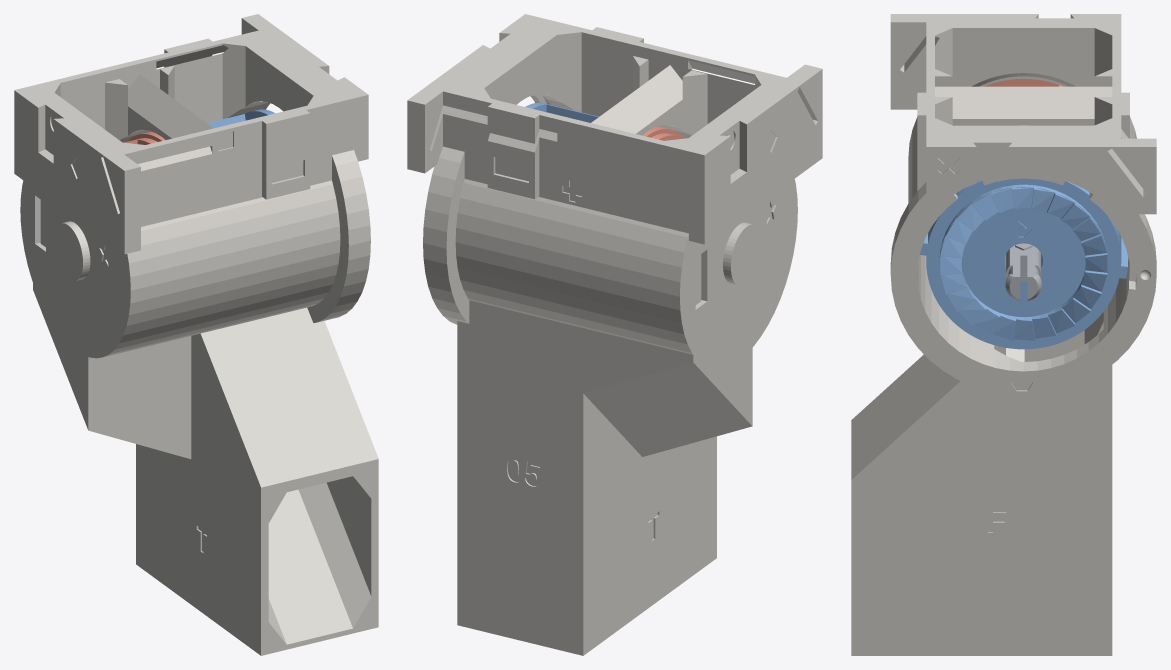
File: a5_cartridge.glb
3 views of the same model, side by side, from view 1: azimuth 30°, elevation 25°; view 2: azimuth 150°, elevation 25°; view 3: azimuth 270°, elevation 25° (orthographic). The views are drawn at different scales.
Visible parts, largest first — view 1: 05_wheel_housing; view 2: 05_wheel_housing; view 3: 05_wheel_housing, 06b_food_wheel, 17_shaft, 06_treat_wheel.
Boxes of the visible parts, bbox=[...] form: 05_wheel_housing: bbox=[14, 14, 378, 655]; 05_wheel_housing: bbox=[407, 14, 822, 655]; 05_wheel_housing: bbox=[851, 14, 1156, 655]; 06b_food_wheel: bbox=[920, 125, 1127, 349]; 17_shaft: bbox=[1005, 243, 1041, 300]; 06_treat_wheel: bbox=[984, 79, 1062, 86].
Size of the model in its own units: 0.0734 by 0.1299 by 0.0689.
